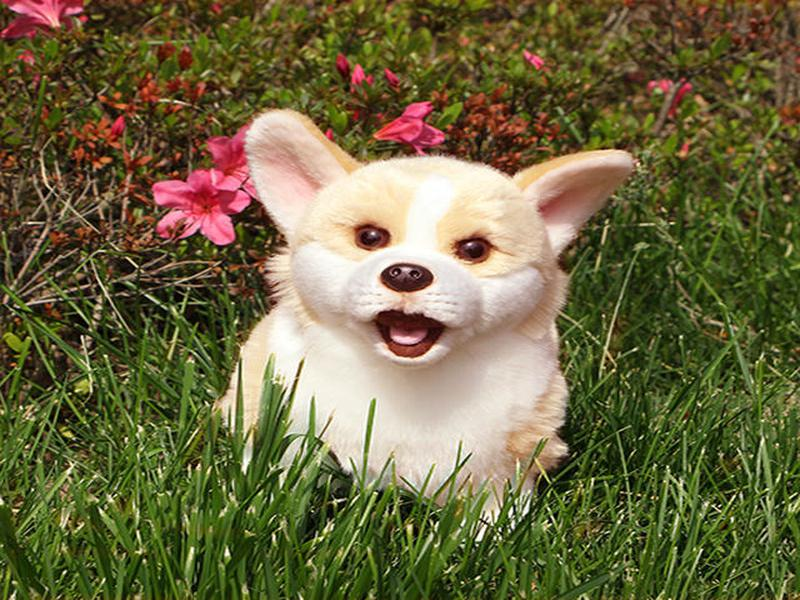corgi: (241, 106, 639, 376)
